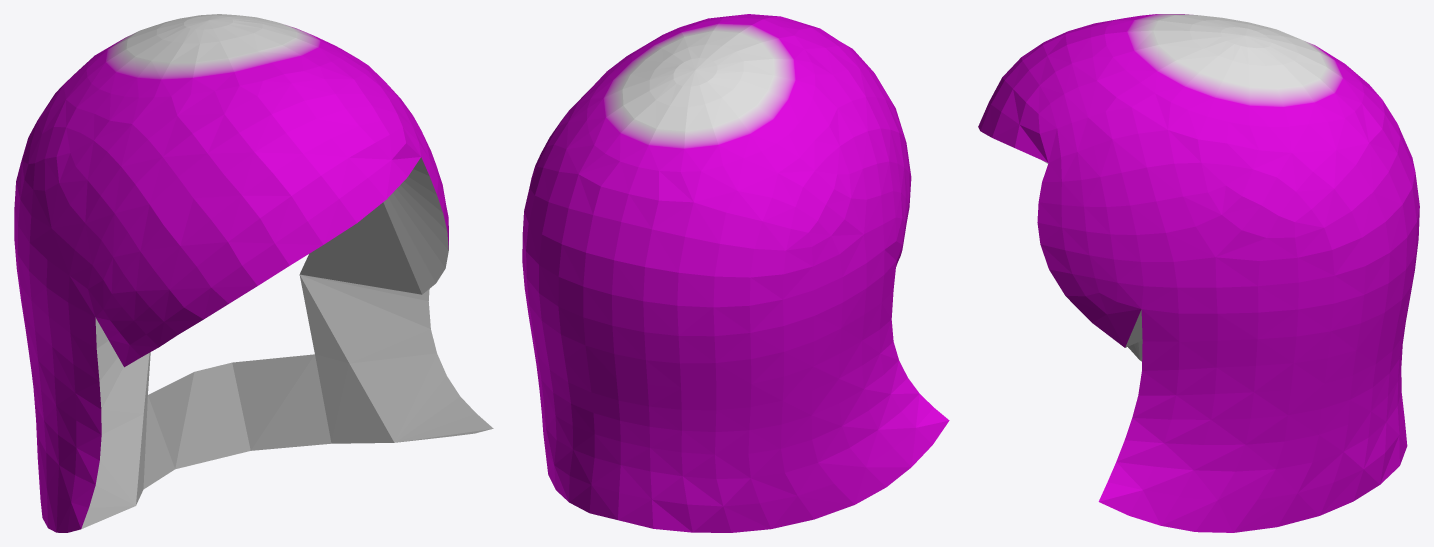
The model's file is hair_1.glb.
3 renders of one model, left to right at view 1: azimuth 30°, elevation 25°; view 2: azimuth 150°, elevation 25°; view 3: azimuth 270°, elevation 25°, orthographic. The views are drawn at different scales.
Parts seen in each view (by area): view 1: shape; view 2: shape; view 3: shape.
Part boxes in pixels (x1=…): shape: x1=14, y1=14, x2=493, y2=532; shape: x1=522, y1=14, x2=949, y2=532; shape: x1=978, y1=14, x2=1419, y2=532.
Size of the model in its own units: 68.49 by 73.09 by 68.31.
